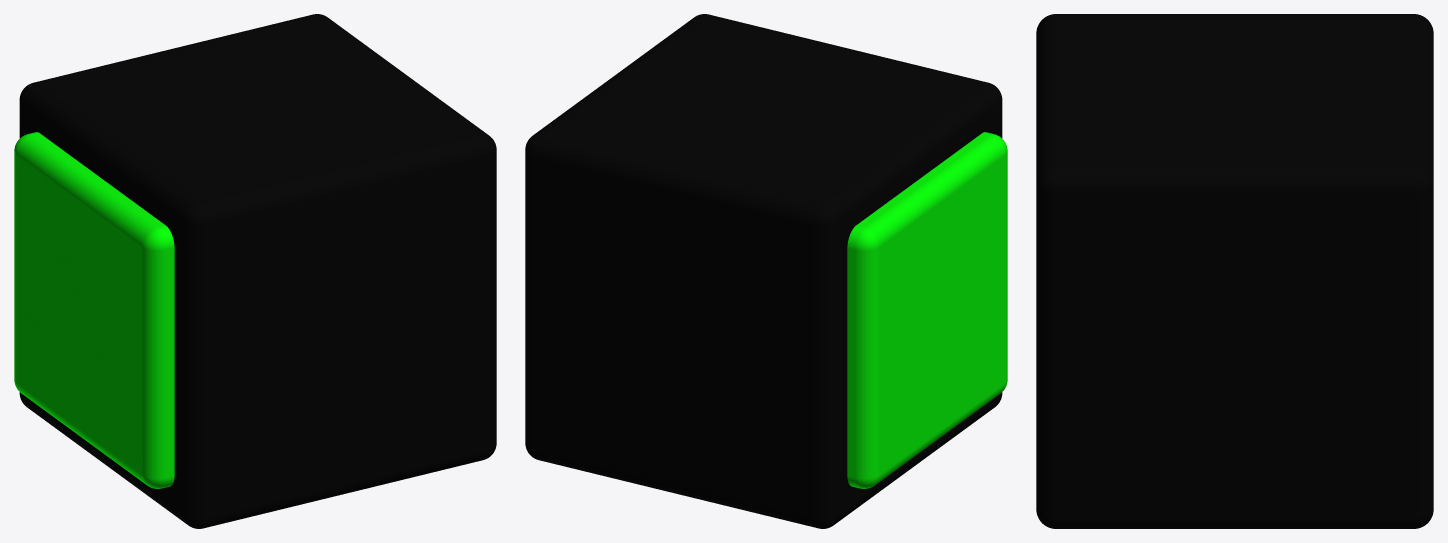
File: cubinho(1, 0, 0).obj
3 views of the same model, side by side, from view 1: azimuth 30°, elevation 25°; view 2: azimuth 150°, elevation 25°; view 3: azimuth 270°, elevation 25° (orthographic). The views are drawn at different scales.
Parts seen in each view (by area): view 1: (1,_0,_0); view 2: (1,_0,_0); view 3: (1,_0,_0).
Boxes of the visible parts, left/top/right/bottom form: (1,_0,_0): left=14, top=14, right=496, bottom=528; (1,_0,_0): left=525, top=14, right=1007, bottom=528; (1,_0,_0): left=1036, top=14, right=1433, bottom=528.
Size of the model in its own units: 2.15 by 2 by 2.
